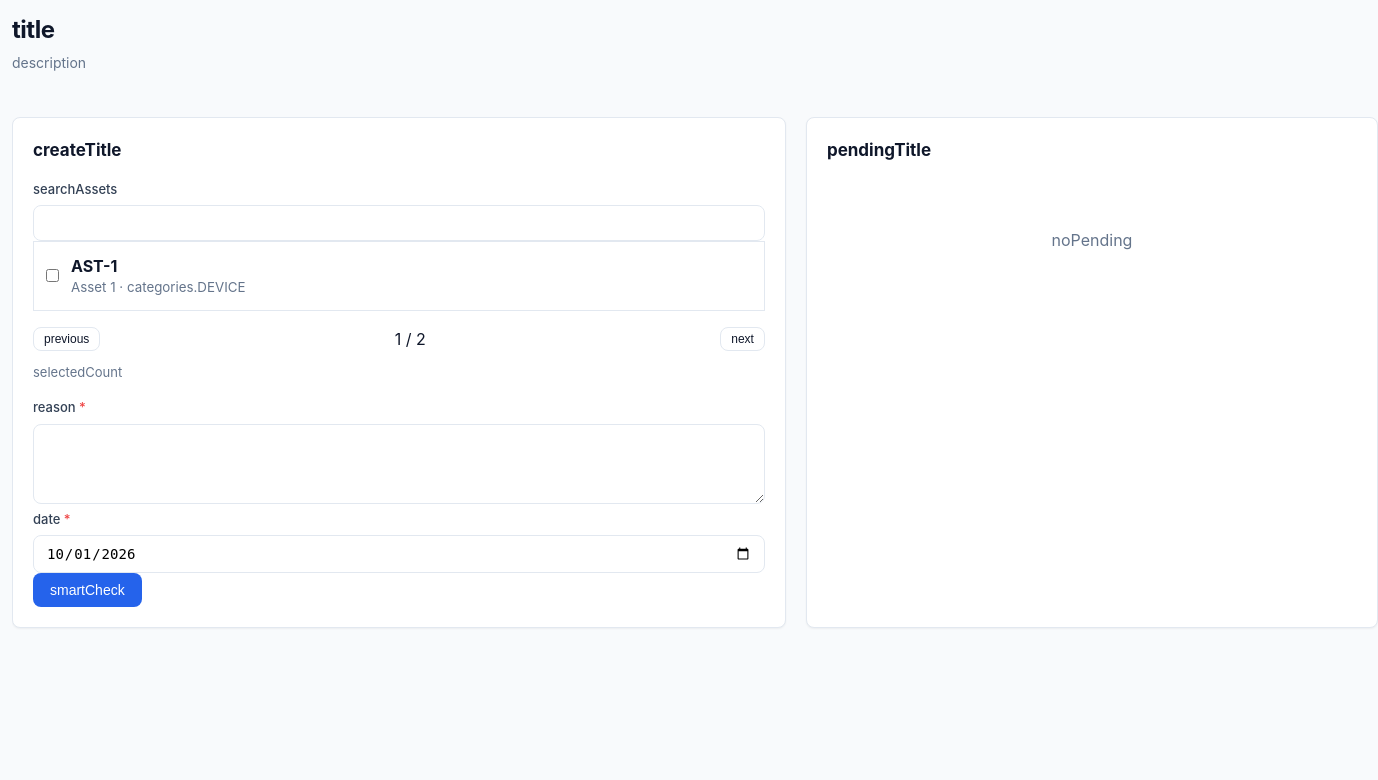
Test: T18 disposal interactions › preserves selected asset IDs while paging candidates
Click the checkbox labelled "AST-1 Asset 1 · categories.DEVICE": {"x": 52, "y": 276} top-left (46, 270), bottom-right (59, 282)
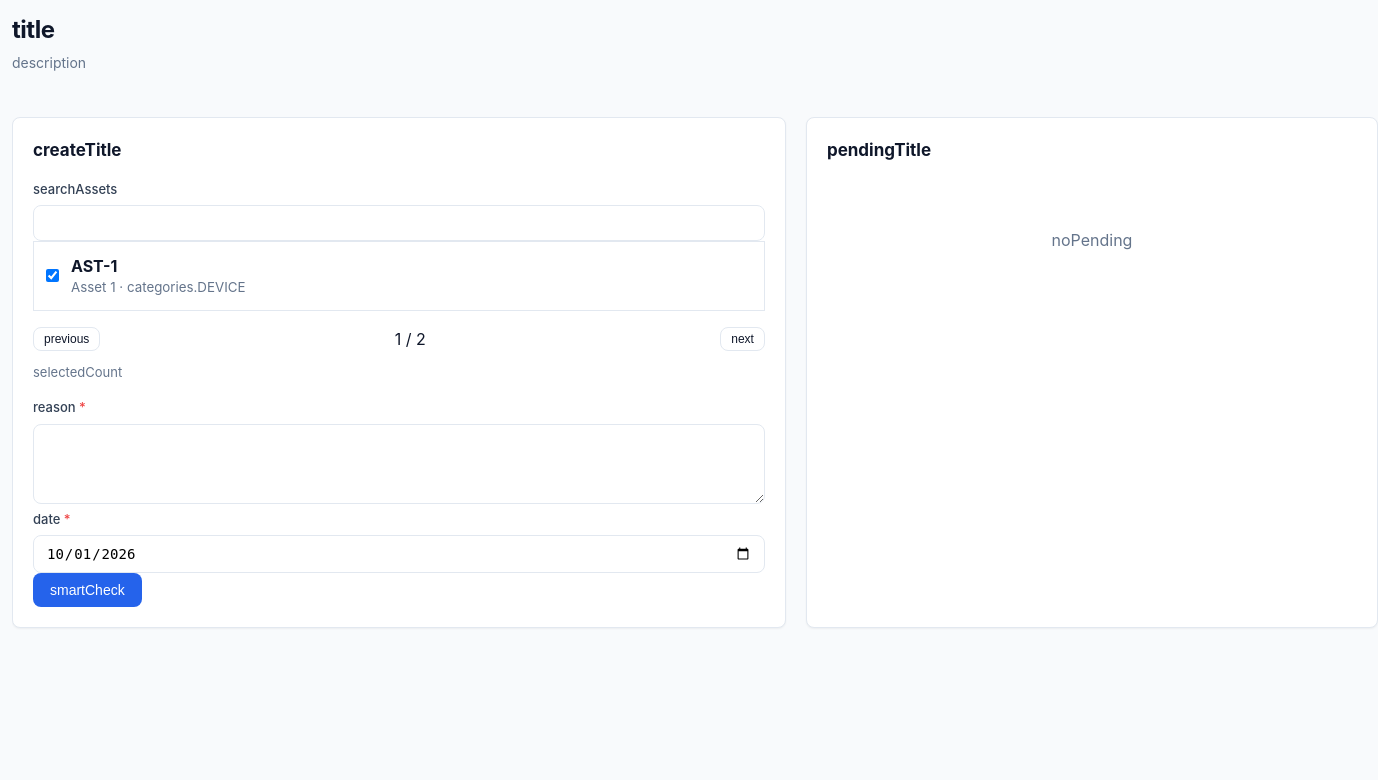
Click the button "next": {"x": 743, "y": 339} top-left (720, 327), bottom-right (765, 351)
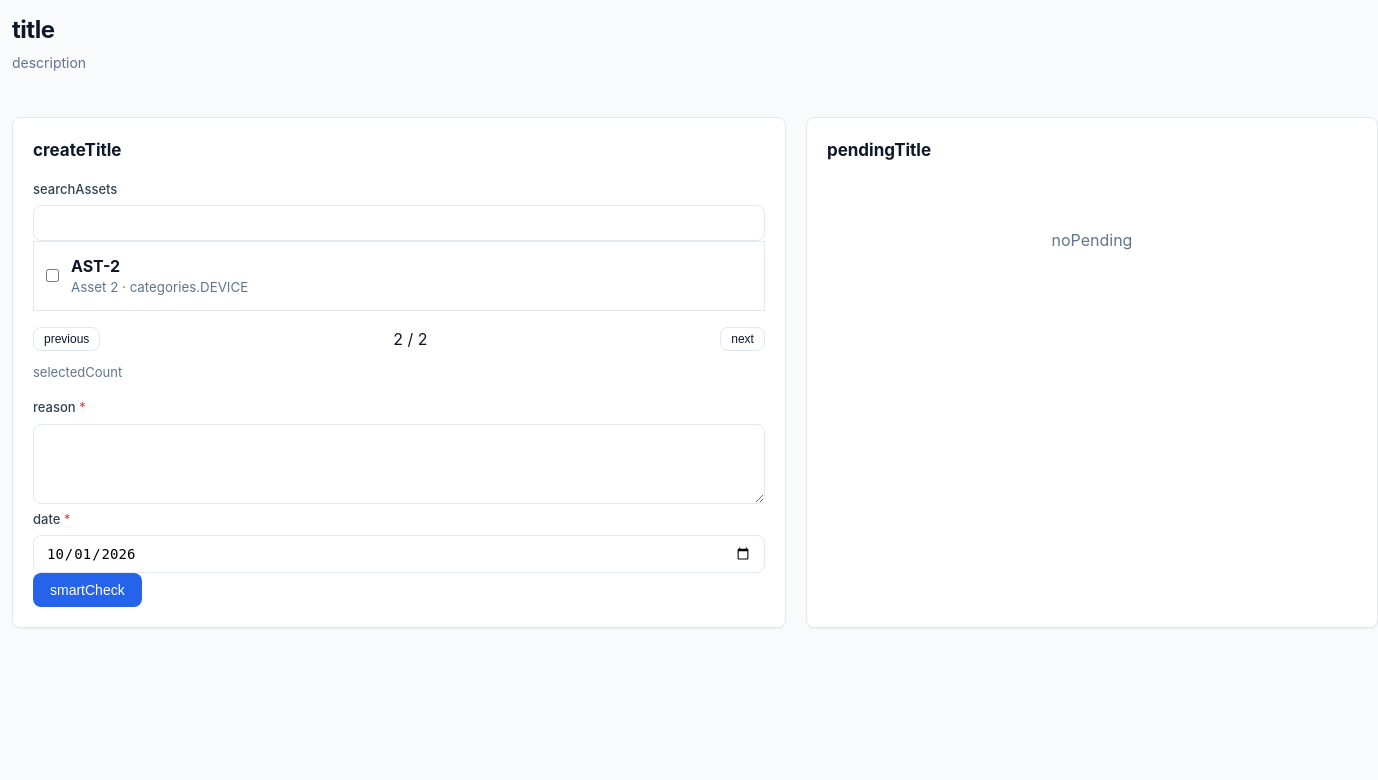
Click the button "previous": {"x": 67, "y": 339} top-left (33, 327), bottom-right (100, 351)
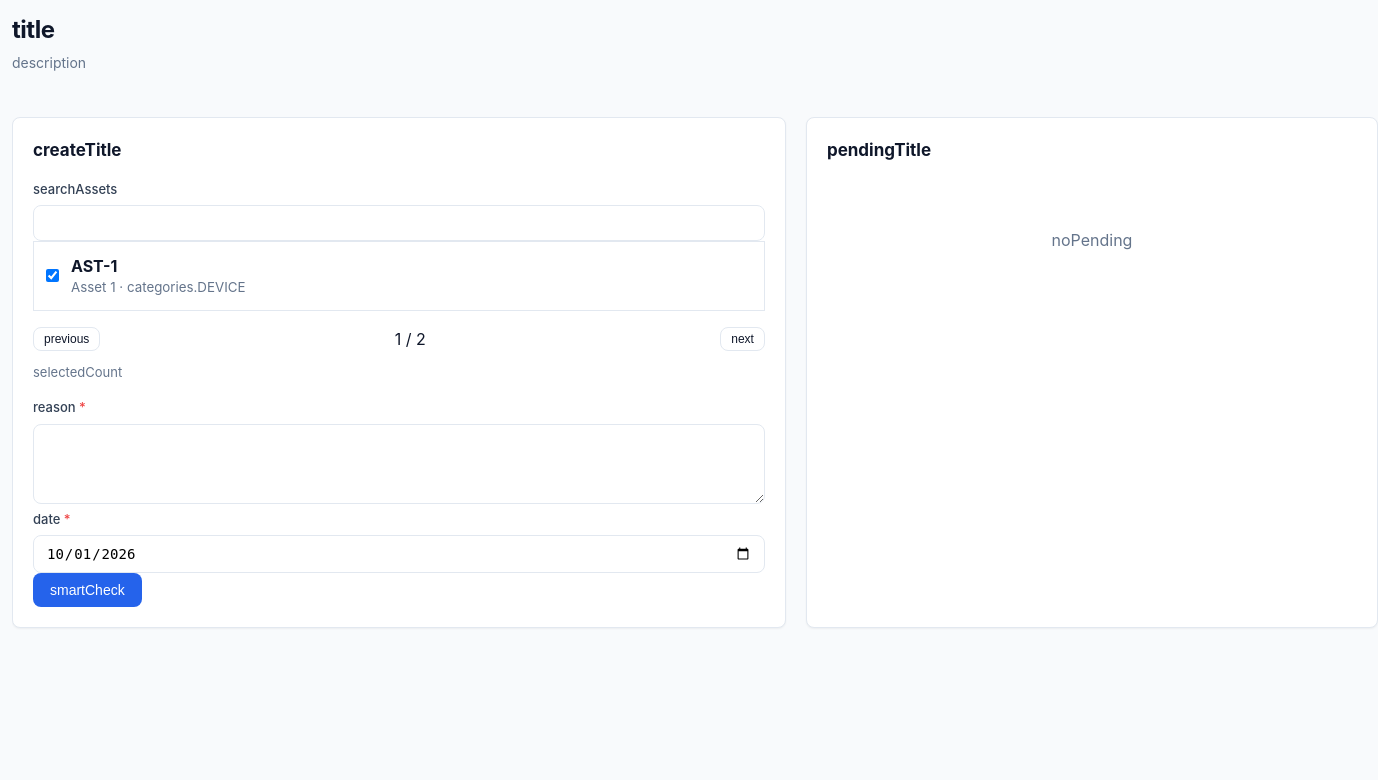
Check: the checkbox labelled "AST-1 Asset 1 · categories.DEVICE" is checked, box top-left (46, 270), bottom-right (59, 282)
